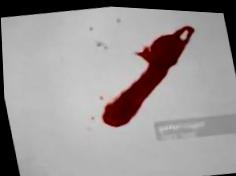Fire: (99, 23, 196, 126)
